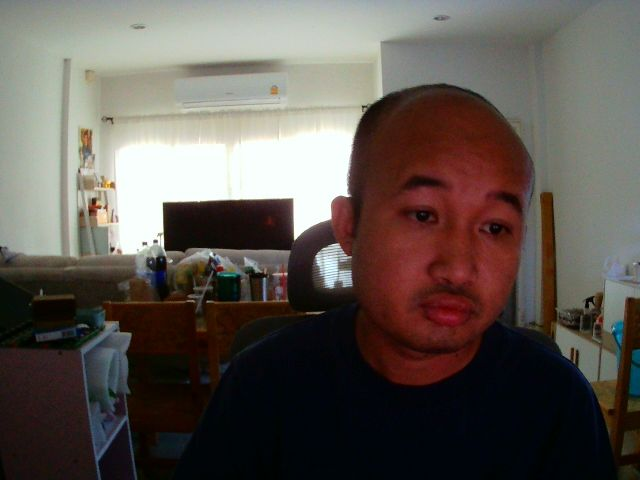face: (338, 87, 535, 354)
